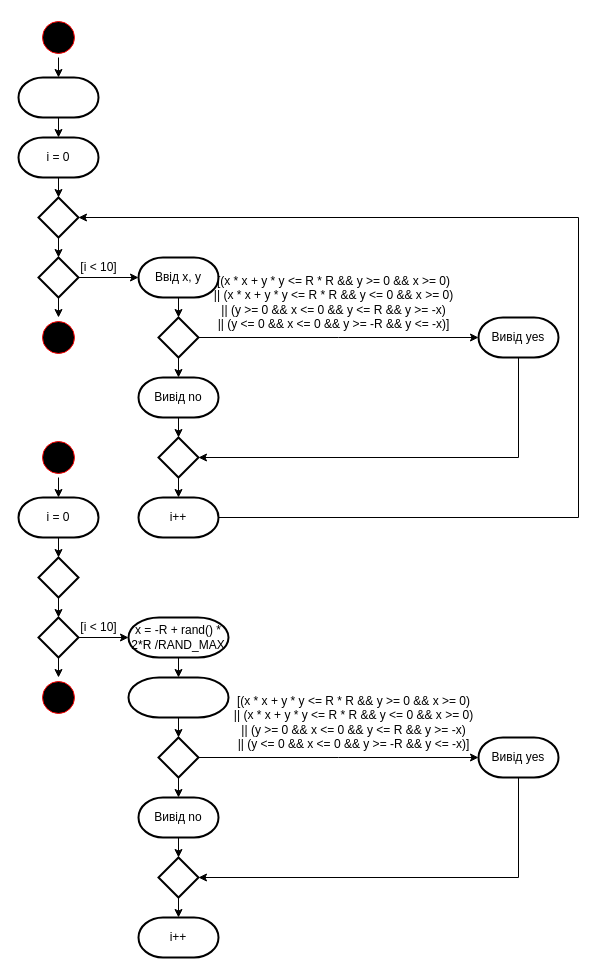
This 604x976 diagram has some shape labels left out. The centre of each missing label's shape, as x and y in pixels:
y = -R + rand() * 2*R /RAND_MAX: (178,697)
Ввід R: (58,97)
